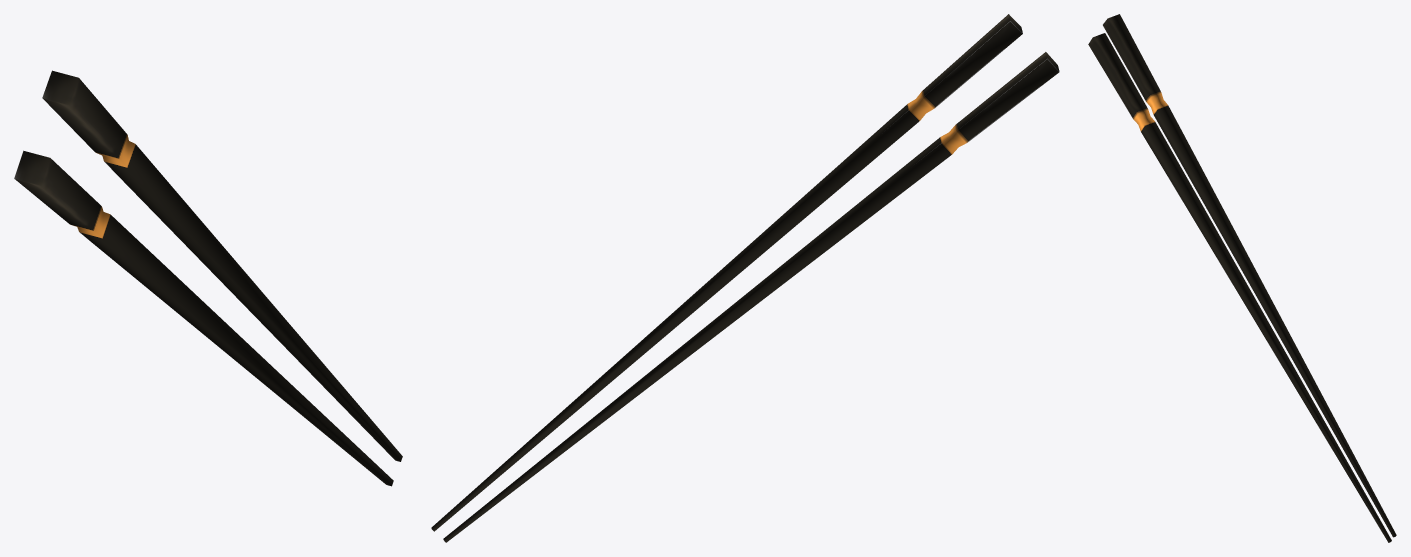
Rendered from chopsticks.obj.
3 views of the same model, side by side, from view 1: azimuth 30°, elevation 25°; view 2: azimuth 150°, elevation 25°; view 3: azimuth 270°, elevation 25° (orthographic). The views are drawn at different scales.
Visible parts, largest first — view 1: dynamic; view 2: dynamic; view 3: dynamic.
Boxes of the visible parts, x1,y1,x2,y2 form: dynamic: (14,70,402,486); dynamic: (431,14,1059,542); dynamic: (1088,14,1396,542).
Size of the model in its own units: 157 by 167 by 123.
1 material, 1 textured.
